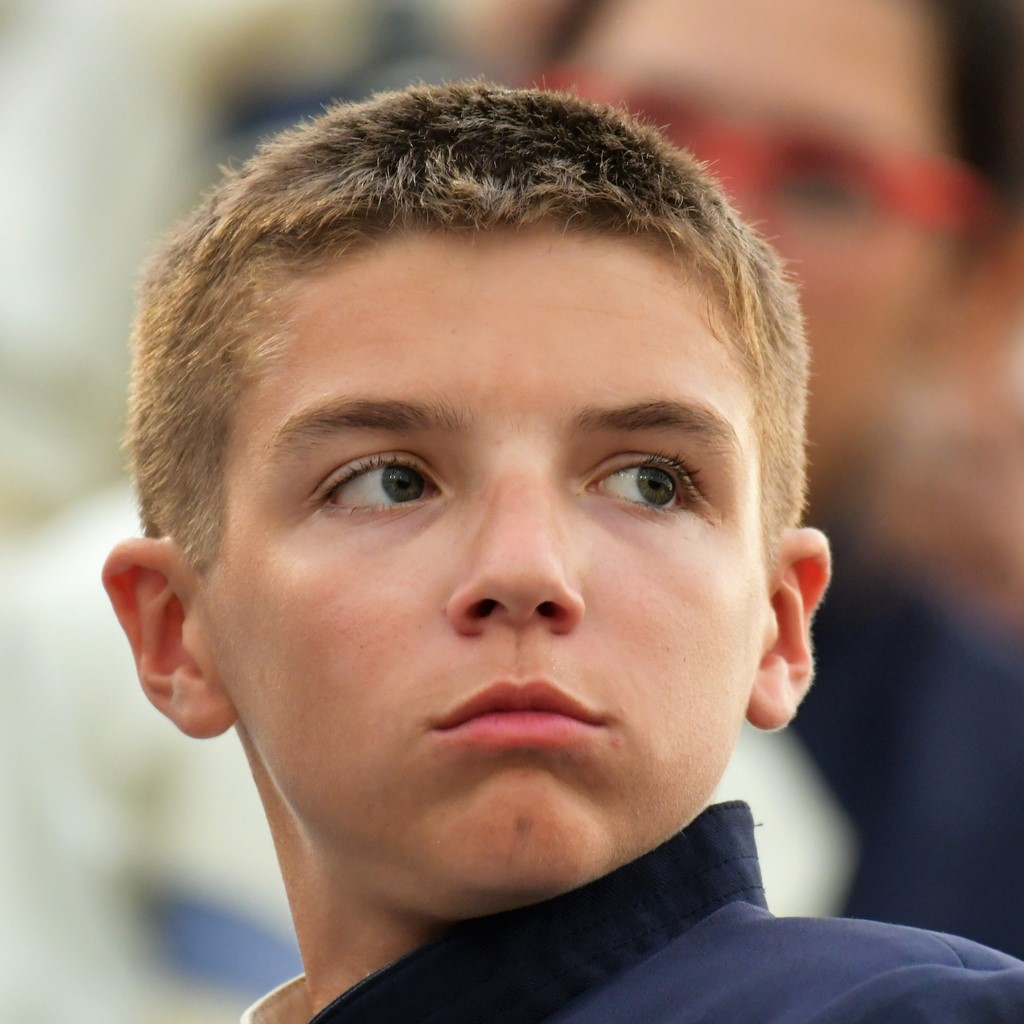sin_mascara: (190, 194, 771, 892)
